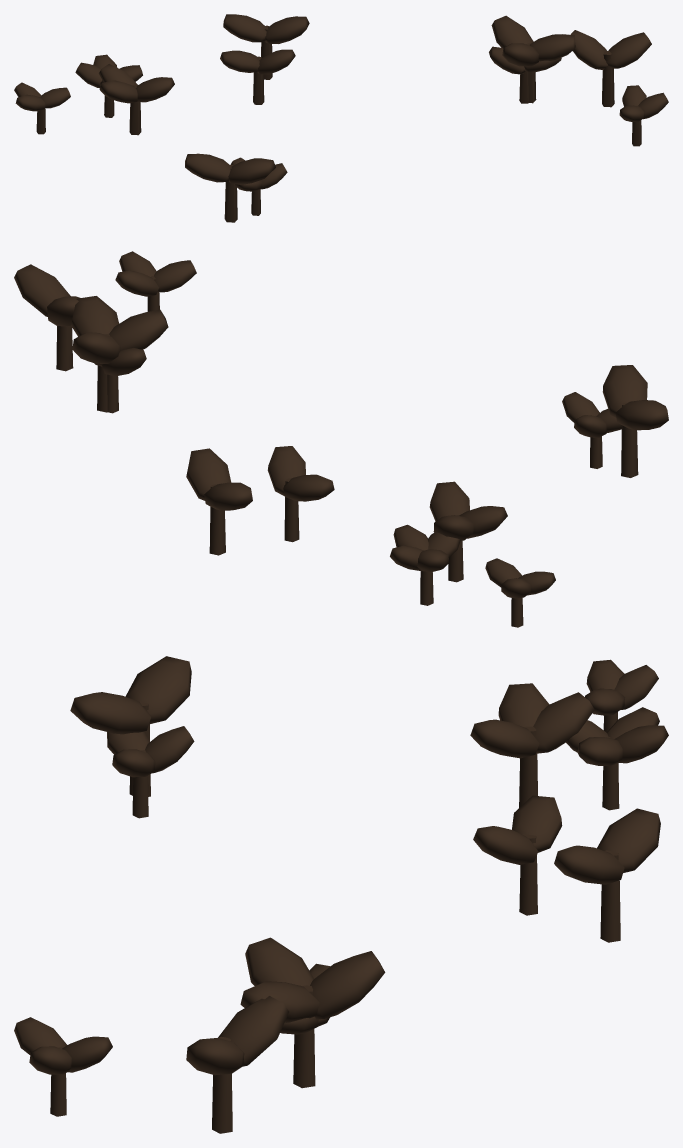
The model's file is painted-sprouts.glb.
3 views of the same model, one above another, from view 1: azimuth 30°, elevation 25°; view 2: azimuth 150°, elevation 25°; view 3: azimuth 270°, elevation 25° (orthographic). The views are drawn at different scales.
Visible parts, largest first — view 1: painted-sprouts-outline; view 2: painted-sprouts-outline; view 3: painted-sprouts-outline.
Part boxes in pixels (left/top/right/bottom): painted-sprouts-outline: left=14, top=14, right=668, bottom=222; painted-sprouts-outline: left=14, top=251, right=668, bottom=627; painted-sprouts-outline: left=14, top=656, right=668, bottom=1133.
Bounding box in the file's own units: 3.75 × 0.489 × 2.4.
